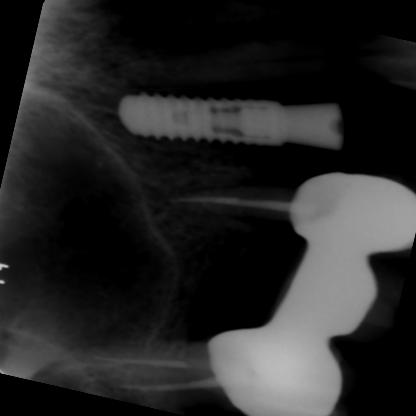ITI: (111, 83, 298, 160)
